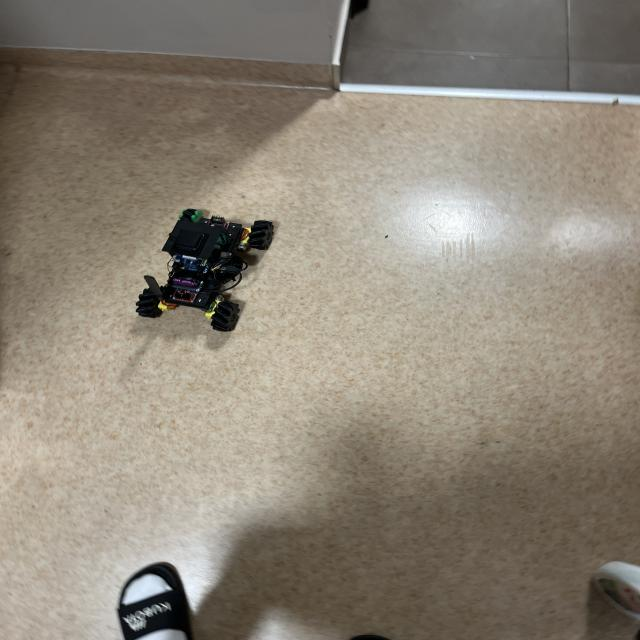robot: (136, 208, 274, 331)
